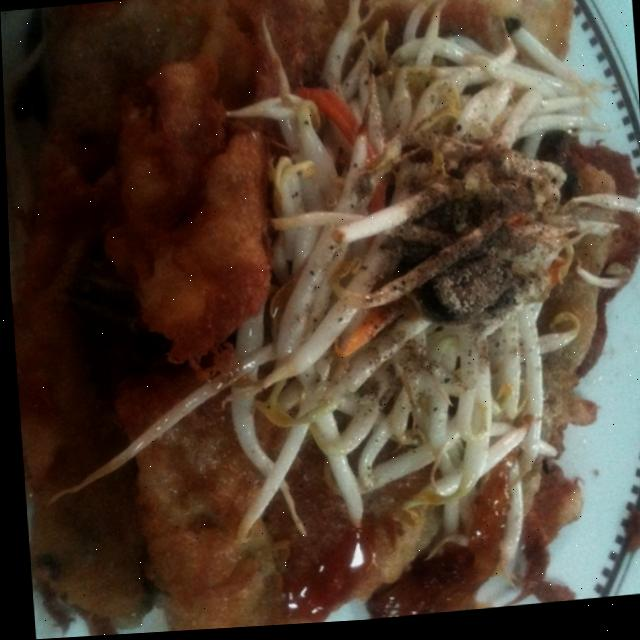炸货点心: (2, 0, 640, 640)
蛋糕甜品: (2, 0, 640, 640)
